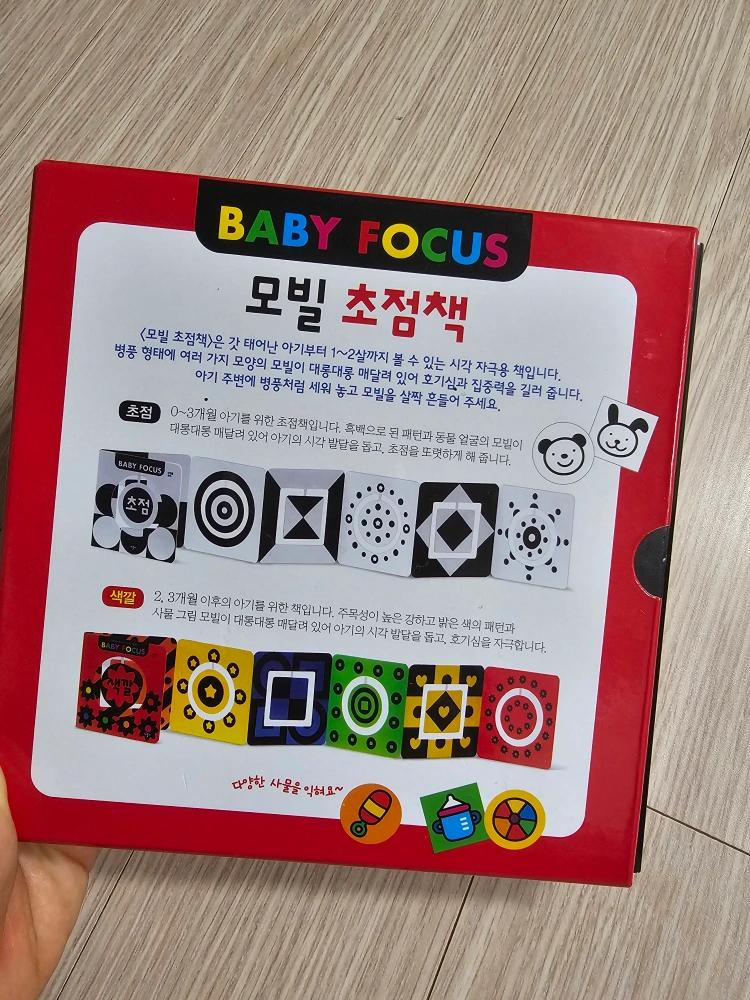book: (1, 158, 701, 887)
